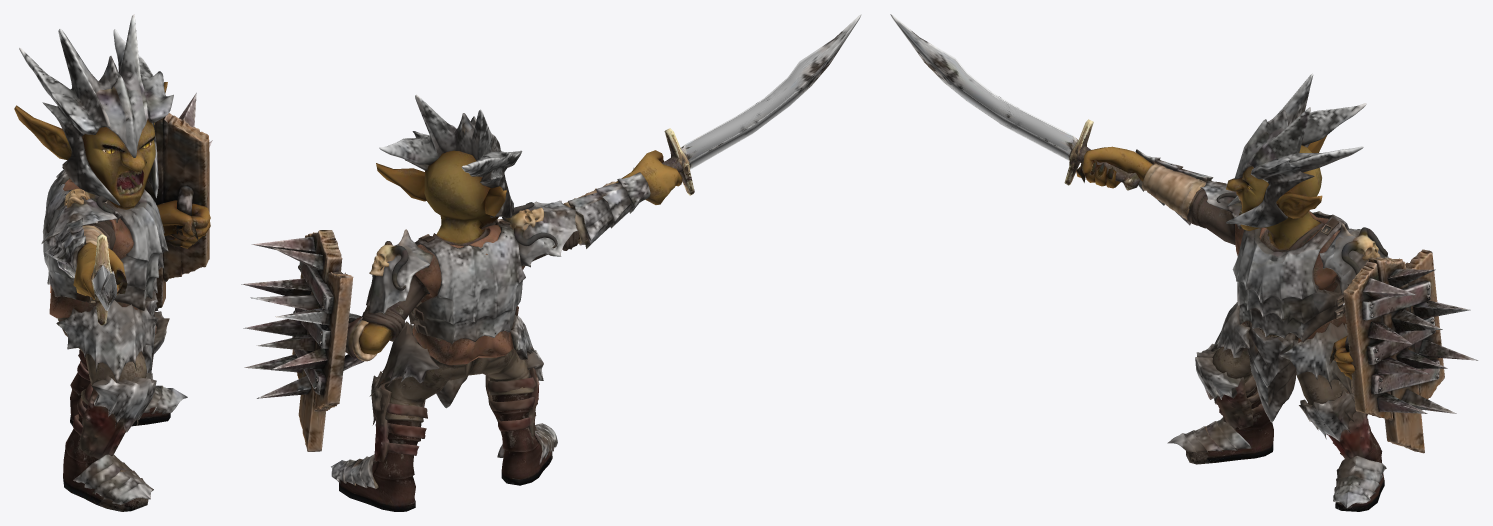
The model's file is MZ4250 - Goblin Boss 2025.glb.
The picture shows the model from 3 angles, left to right: view 1: azimuth 30°, elevation 25°; view 2: azimuth 150°, elevation 25°; view 3: azimuth 270°, elevation 25°; orthographic projection. The views are drawn at different scales.
Parts seen in each view (by area): view 1: Body.002; view 2: Body.002; view 3: Body.002.
Part boxes in pixels (x1,y1,x2,y2): Body.002: (14,14,212,511); Body.002: (241,14,861,511); Body.002: (890,14,1477,511).
Size of the model in its own units: 70.11 by 73.37 by 102.
4 materials, 4 textured.
